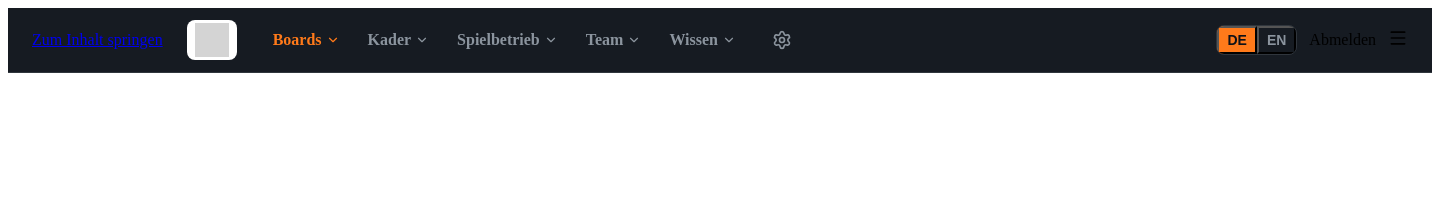
Scenario: Header – gruppierte Navigation › öffnet eine Gruppe per Klick und zeigt ihre Unterpunkte
Click the button "Kader" at (398, 40), box x1=356 y1=23 x2=441 y2=57
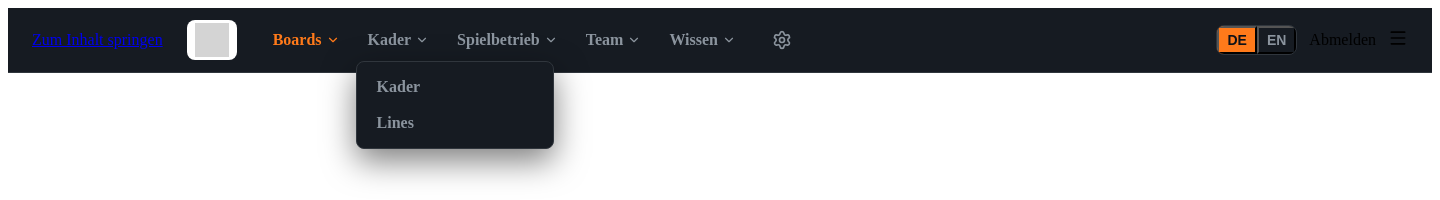
Check: the link "Kader" is shown, box x1=376 y1=78 x2=420 y2=95
Check: the link "Lines" is shown, box x1=376 y1=114 x2=414 y2=131
